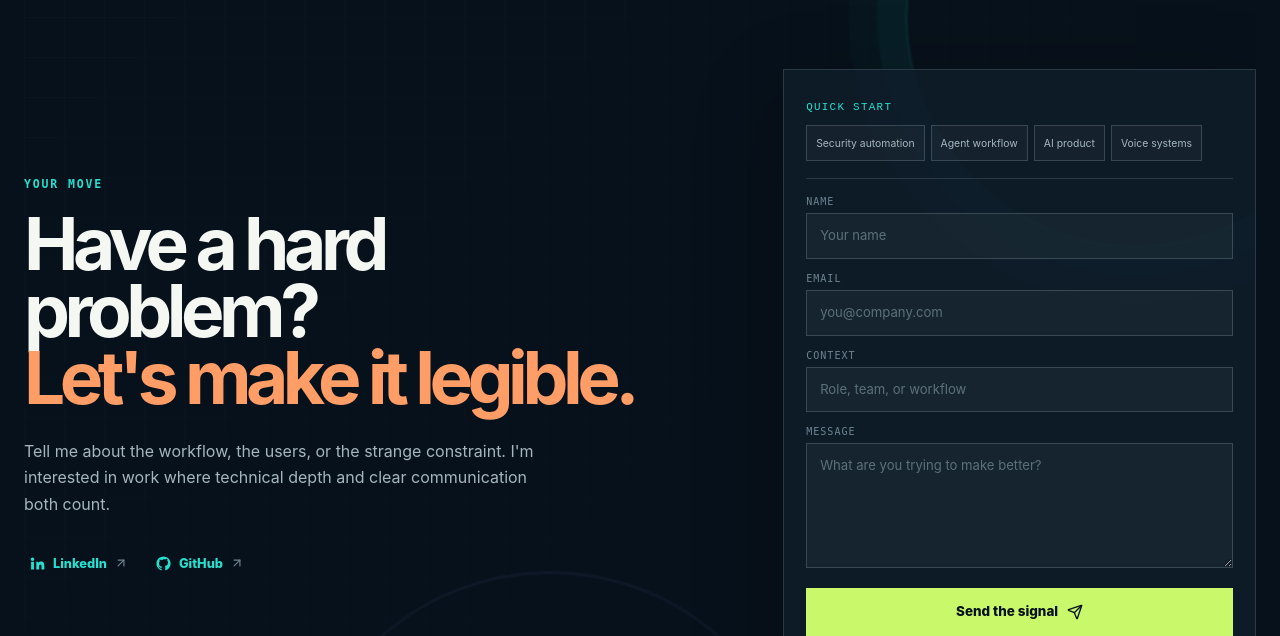
Test: Shanto Mathew portfolio › submits the contact workflow through the backend boundary
(page scrolled)
Type "Avery Recruiter" into the field labelled "Name" at [1020, 236], box [806,213,1233,259]
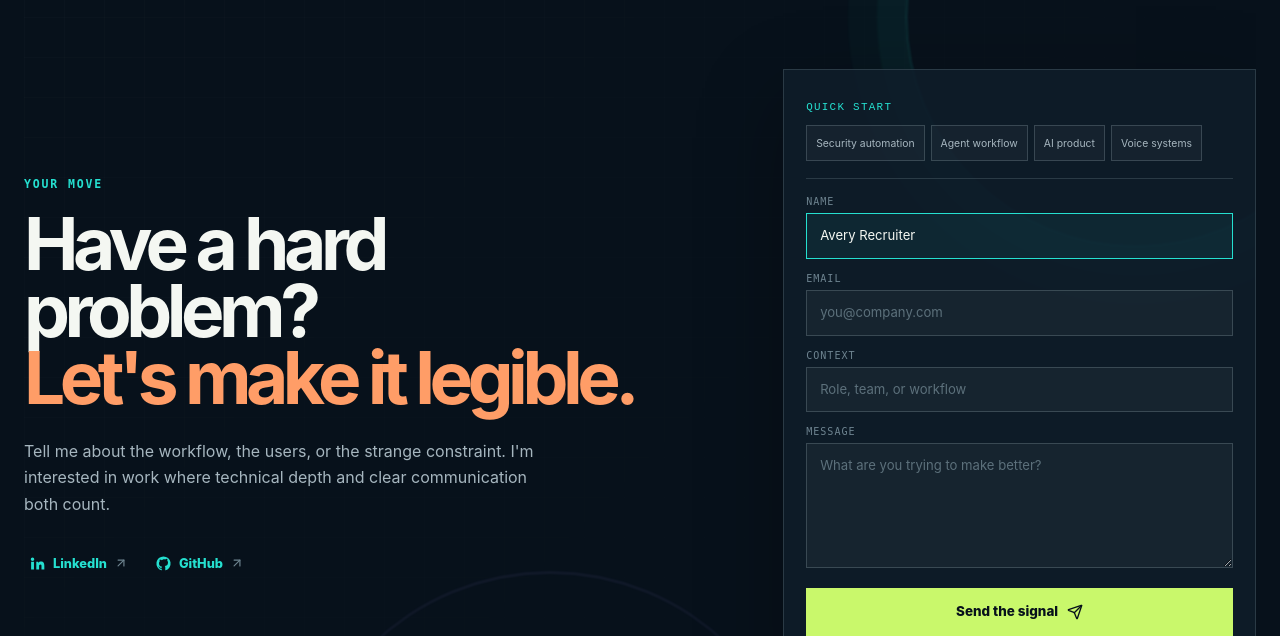
Type "avery@example.com" into the field labelled "Email" at [1020, 313], box [806,290,1233,336]
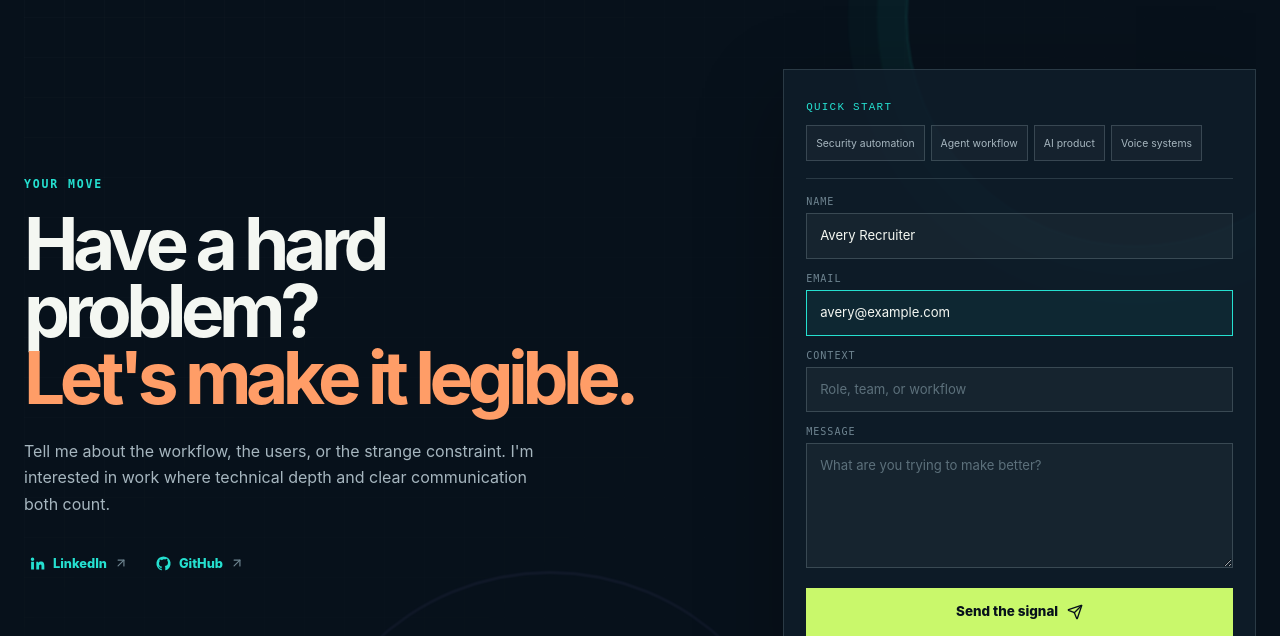
Type "Security platform role" into the field labelled "Context" at [1020, 389], box [806,367,1233,412]
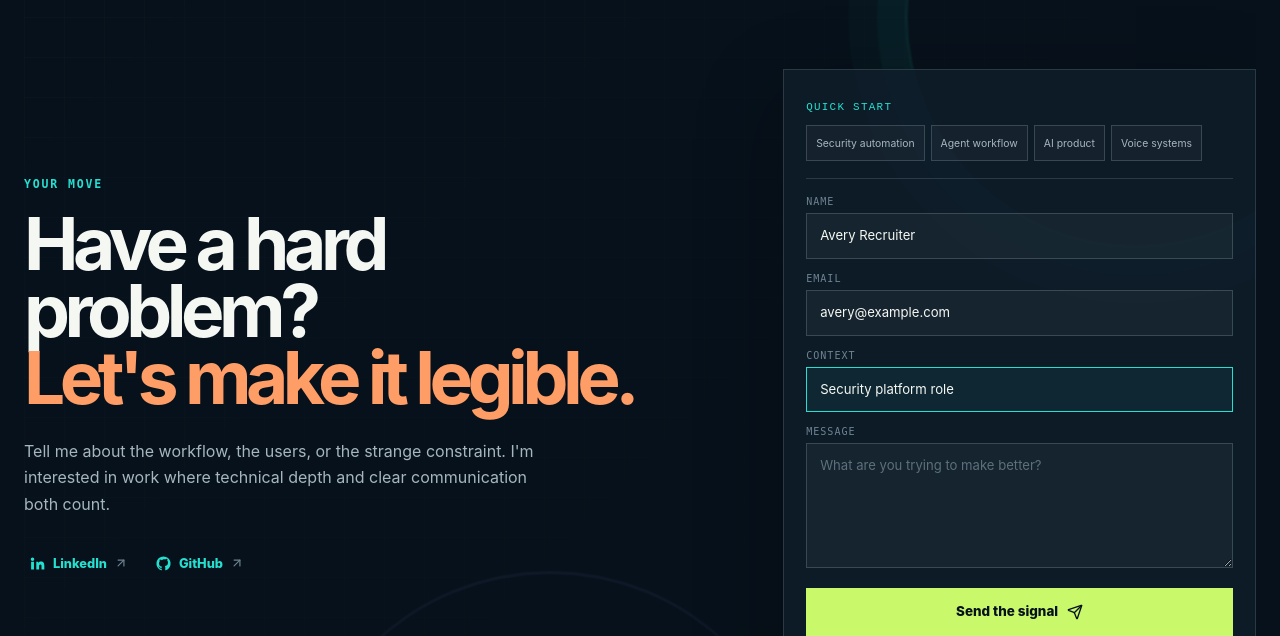
Type "I would like to discuss an AI security automation role." into the text box labelled "Message" at [1020, 505], box [806,443,1233,568]
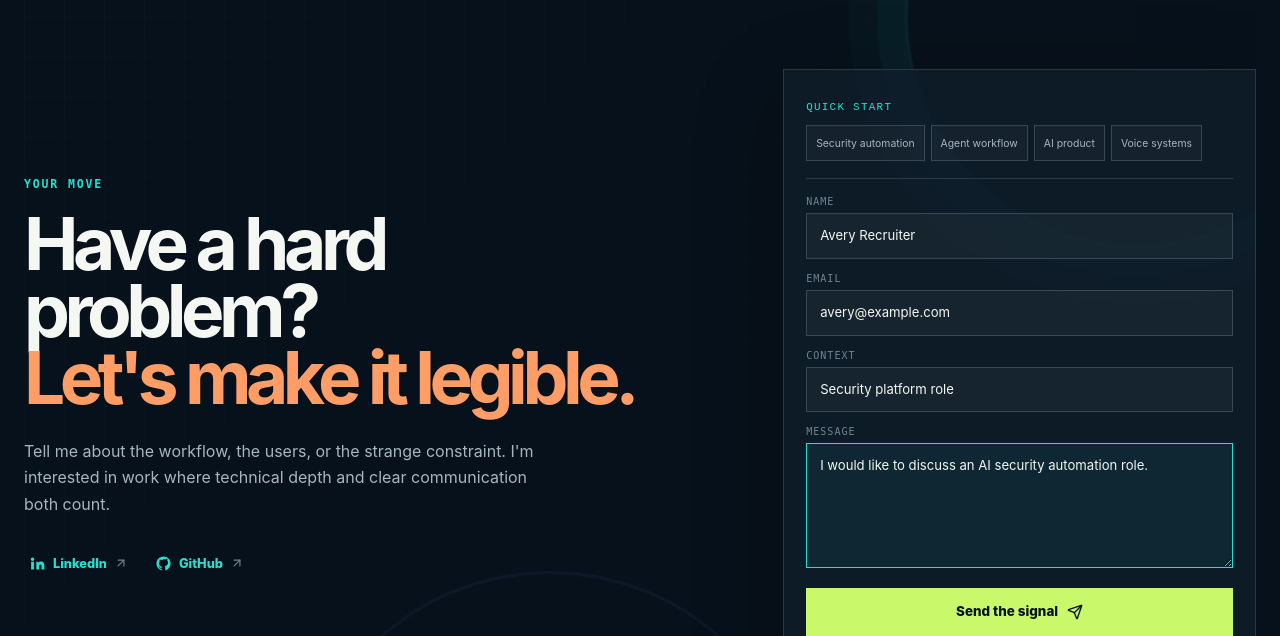
Click the button "Send the signal" at [1020, 612], box [806,588,1233,635]
(page scrolled)
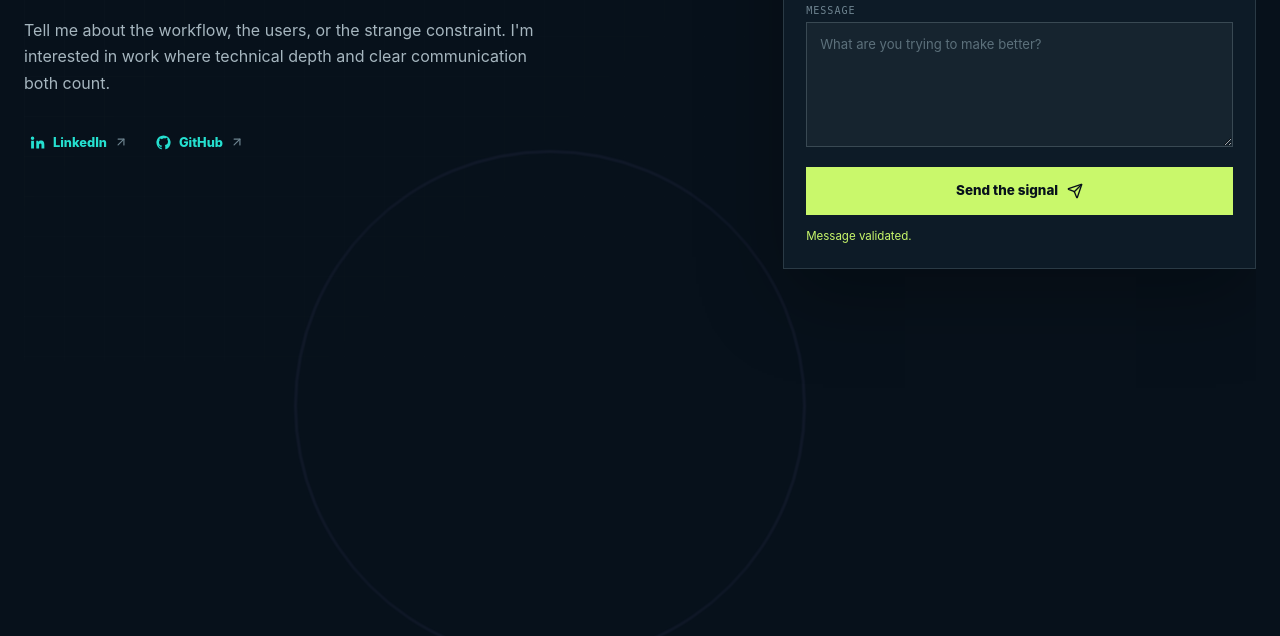
Expected: the text "Message validated." is shown, [806,229,912,243]
